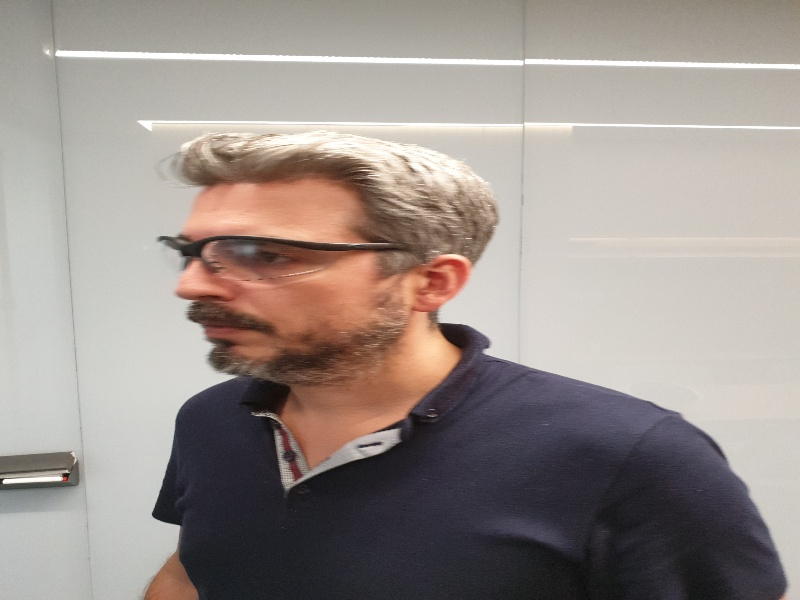Gozluk: (157, 234, 416, 280)
